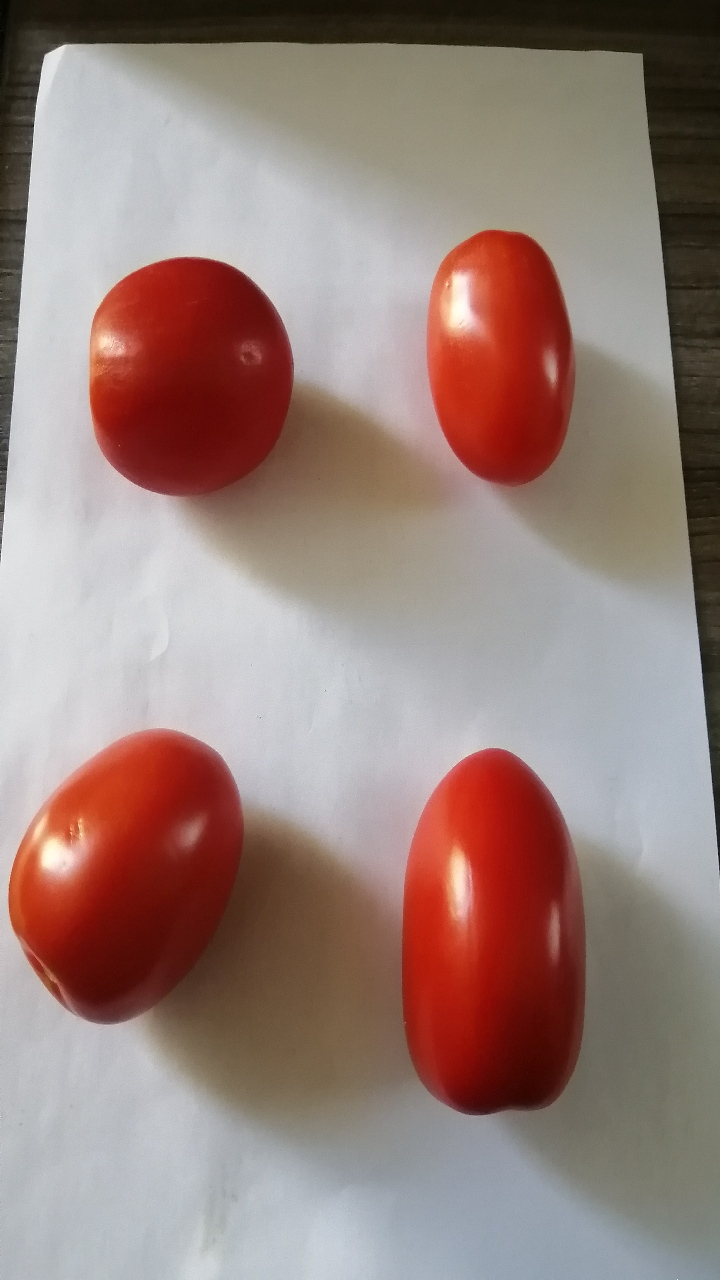tomateRojo: (380, 723, 609, 1137), (4, 694, 261, 1057), (64, 223, 317, 503), (400, 195, 598, 517)
